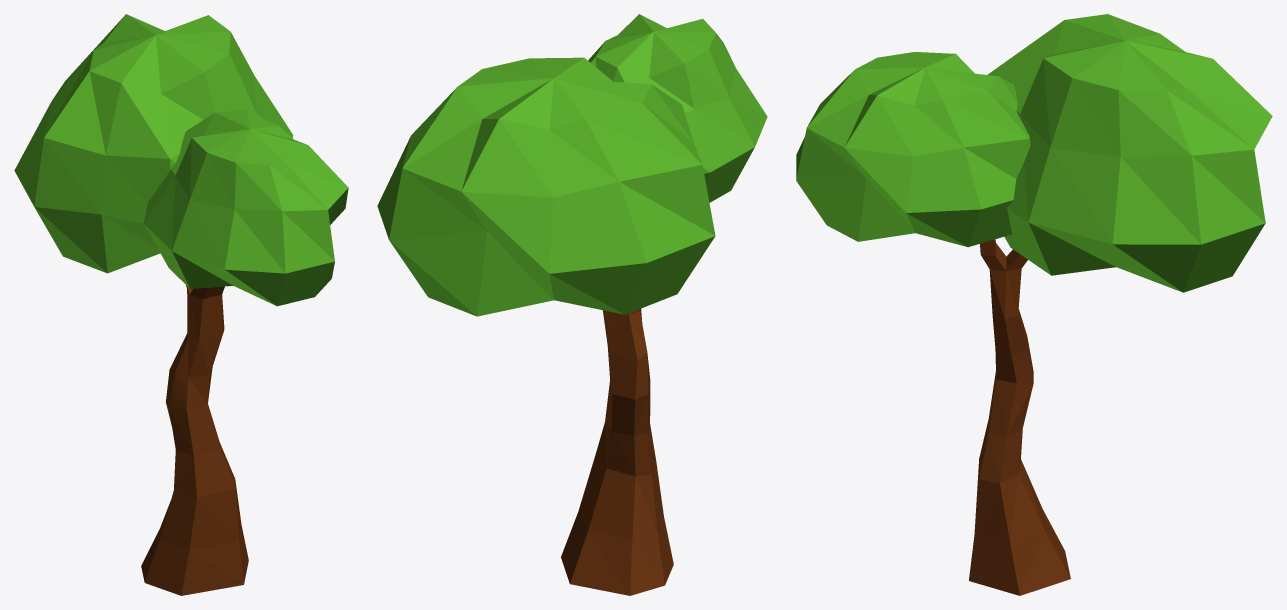
File: Tree_01_vf.FBX
3 renders of one model, left to right at view 1: azimuth 30°, elevation 25°; view 2: azimuth 150°, elevation 25°; view 3: azimuth 270°, elevation 25°, orthographic. The views are drawn at different scales.
Parts seen in each view (by area): view 1: Sphere002; view 2: Sphere002; view 3: Sphere002.
Part boxes in pixels (left/top/right/bottom): Sphere002: left=14, top=14, right=348, bottom=595; Sphere002: left=377, top=14, right=767, bottom=595; Sphere002: left=796, top=14, right=1272, bottom=595.
Bounding box in the file's own units: 281 × 499 × 404.
Materials: 1 (1 with a texture image).
